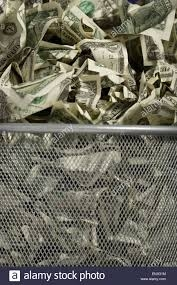paper: (1, 61, 76, 128), (108, 61, 177, 125), (132, 7, 177, 69), (75, 34, 130, 84), (52, 3, 115, 45), (1, 1, 34, 66)
